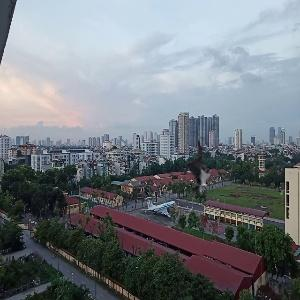drone: (167, 138, 231, 202)
